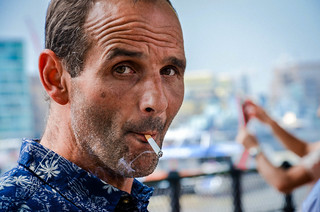cigarette: (143, 133, 166, 159)
